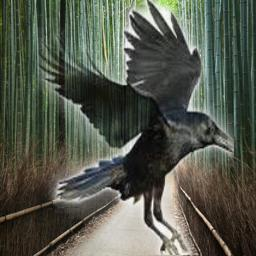Crow: (37, 0, 234, 255)
